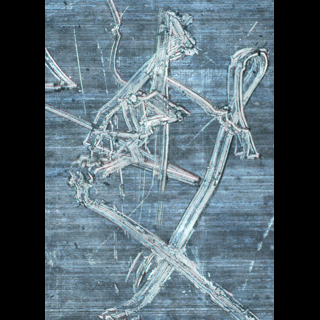d: (75, 170, 246, 320), (66, 76, 196, 204), (207, 38, 270, 169), (148, 4, 203, 80), (105, 0, 140, 88), (45, 39, 87, 103)
